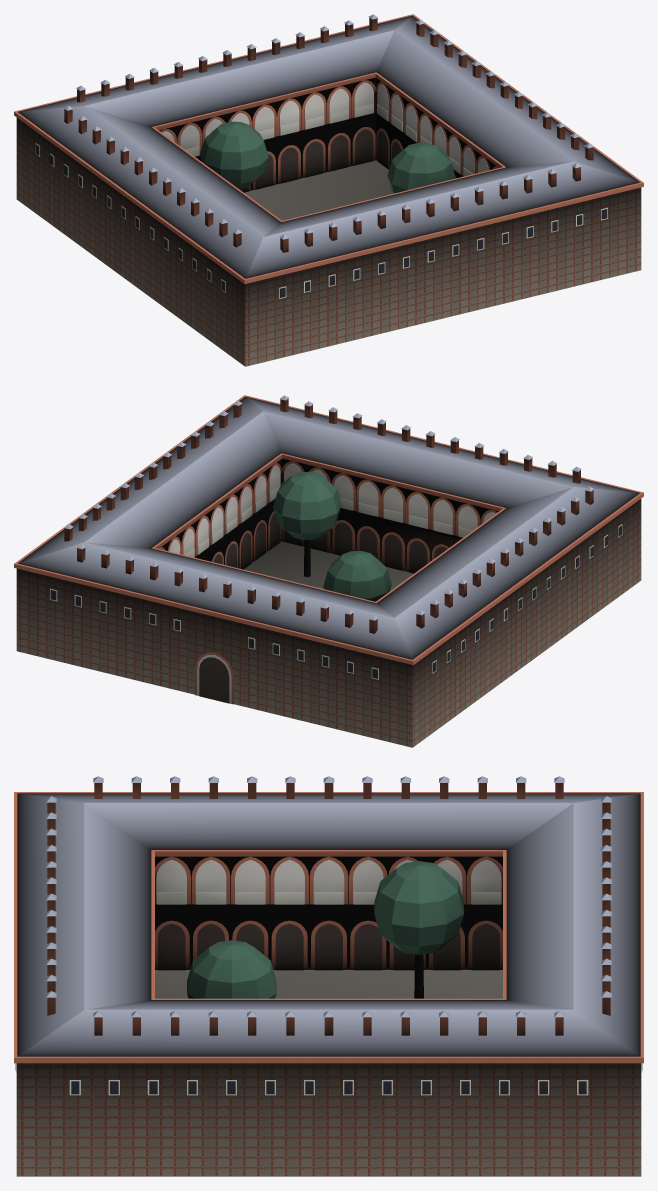
Rendered from emir-hani_v02.glb.
3 views of the same model, one above another, from view 1: azimuth 30°, elevation 25°; view 2: azimuth 150°, elevation 25°; view 3: azimuth 270°, elevation 25° (orthographic). The views are drawn at different scales.
Parts seen in each view (by area): view 1: Emir_Hani, Avlu_Revaklari, Sacak, Bacalar, Agaclar, Han_Avlu, Dis_Cephe; view 2: Emir_Hani, Avlu_Revaklari, Sacak, Bacalar, Agaclar, Dis_Cephe, Han_Avlu; view 3: Emir_Hani, Avlu_Revaklari, Sacak, Agaclar, Bacalar, Han_Avlu, Dis_Cephe.
Part boxes in pixels (x1,y1,x2,y2): Emir_Hani: (16,15,641,366); Avlu_Revaklari: (160,80,498,192); Sacak: (14,14,643,284); Bacalar: (64,14,593,252); Agaclar: (200,121,455,193); Han_Avlu: (244,160,392,220); Dis_Cephe: (35,143,607,298); Emir_Hani: (16,396,641,747); Avlu_Revaklari: (159,461,497,573); Sacak: (14,395,643,665); Bacalar: (64,395,593,633); Agaclar: (273,471,391,601); Dis_Cephe: (50,524,622,704); Han_Avlu: (244,541,413,590); Emir_Hani: (16,793,641,1176); Avlu_Revaklari: (155,856,502,970); Sacak: (14,792,643,1063); Agaclar: (187,861,463,998); Bacalar: (46,776,611,1035); Han_Avlu: (155,969,502,998); Dis_Cephe: (15,1063,642,1095).
Size of the model in its own units: 45.4 by 12.02 by 45.4.
11 materials, 1 textured.
